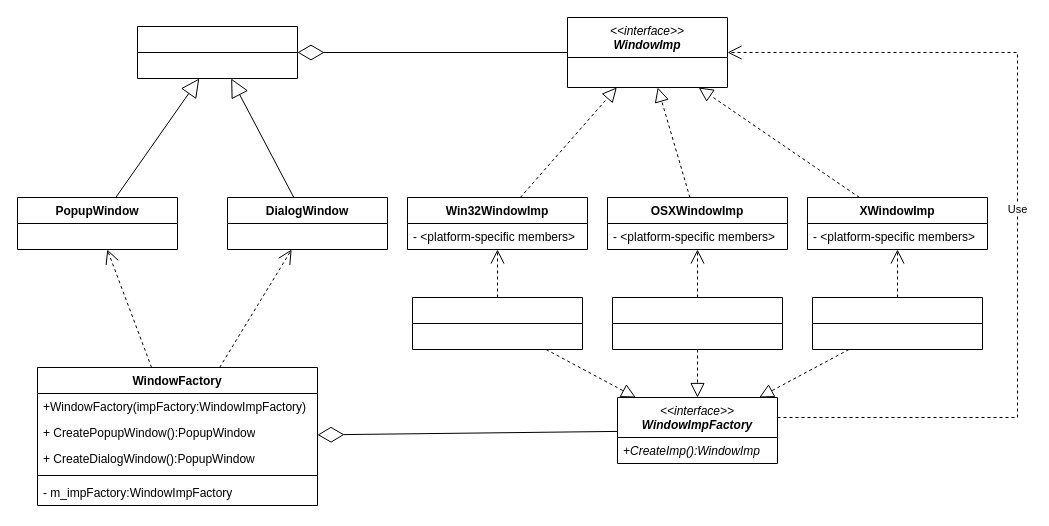
Some shapes in this 1049 by 526 pixel diagram are drawn without their labels. The centre of each missing label's shape, as x and y in pixels:
"OSXWindowImpFactory" belongs at [697,323].
"Win32WindowImpFactory" belongs at [497,323].
"Window" belongs at [217,52].
"XWindowImpFactory" belongs at [897,323].
